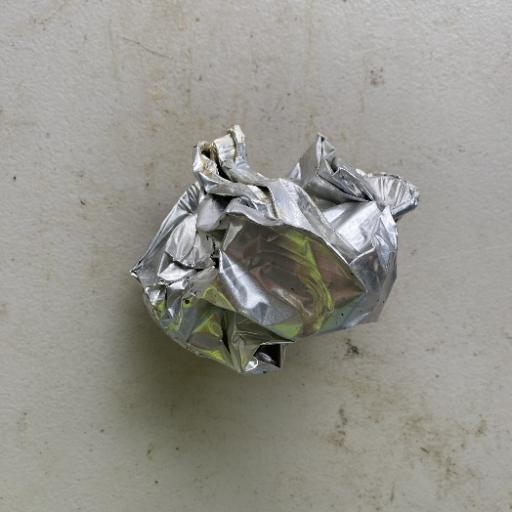Metal: (128, 122, 421, 376)
